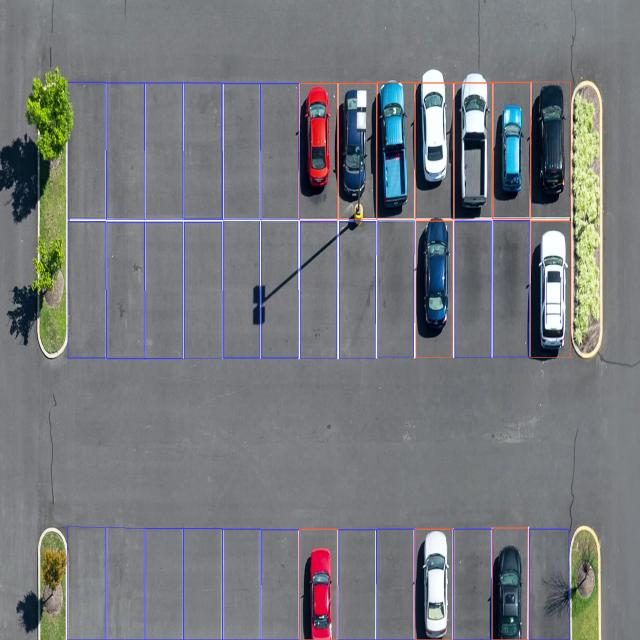space-empty: (451, 216, 494, 358), (335, 219, 378, 358), (375, 216, 417, 358), (491, 217, 532, 358), (298, 219, 339, 358), (67, 79, 107, 220), (105, 220, 146, 357), (183, 220, 223, 358), (260, 82, 300, 220), (144, 84, 184, 222), (183, 83, 223, 220), (222, 83, 262, 220), (144, 220, 184, 357), (66, 220, 106, 355), (106, 82, 145, 220), (222, 220, 261, 357), (526, 527, 570, 639), (262, 222, 298, 357), (374, 528, 416, 639), (143, 525, 184, 638), (222, 528, 264, 638), (65, 528, 106, 639), (452, 528, 492, 639), (260, 530, 300, 639), (338, 531, 377, 639), (184, 526, 221, 639), (107, 526, 144, 636)
space-occupied: (528, 217, 572, 358), (414, 81, 456, 221), (529, 80, 571, 218), (453, 82, 494, 220), (414, 217, 454, 357), (375, 81, 415, 220), (336, 83, 376, 218), (299, 82, 338, 220), (492, 82, 530, 219), (414, 528, 455, 639), (491, 526, 529, 640), (300, 530, 339, 640)
